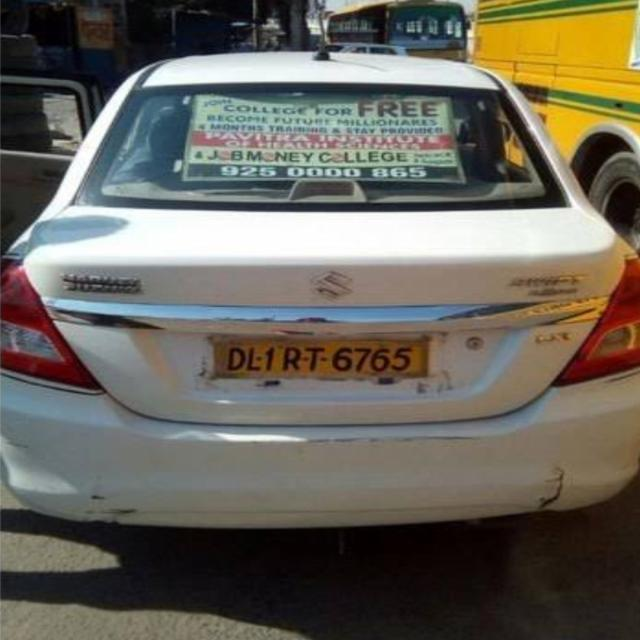Number-Plate: (208, 336, 434, 383)
